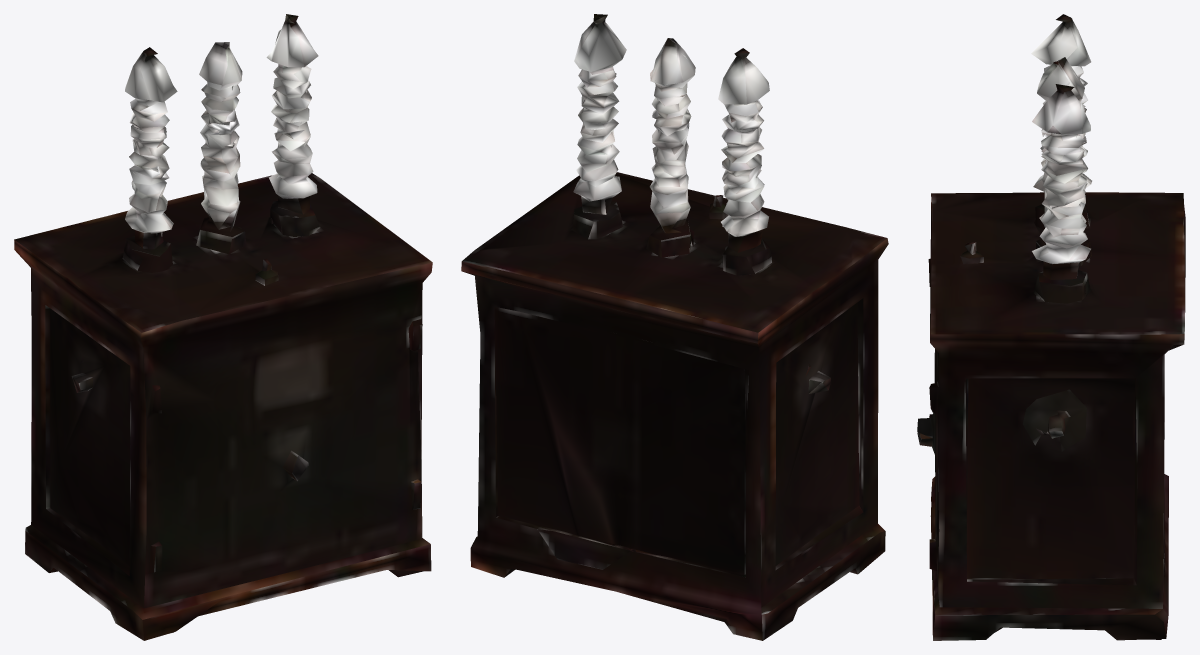
Rendered from transformador.movil.glb.
3 views of the same model, side by side, from view 1: azimuth 30°, elevation 25°; view 2: azimuth 150°, elevation 25°; view 3: azimuth 270°, elevation 25° (orthographic). The views are drawn at different scales.
Parts seen in each view (by area): view 1: geometry_0; view 2: geometry_0; view 3: geometry_0.
Boxes of the visible parts, box(x1,y1,x2,y2) form: geometry_0: box(14, 14, 432, 640); geometry_0: box(461, 14, 888, 640); geometry_0: box(917, 14, 1185, 640).
Size of the model in its own units: 0.8916 by 1.49 by 0.6945.
1 material, 1 textured.
